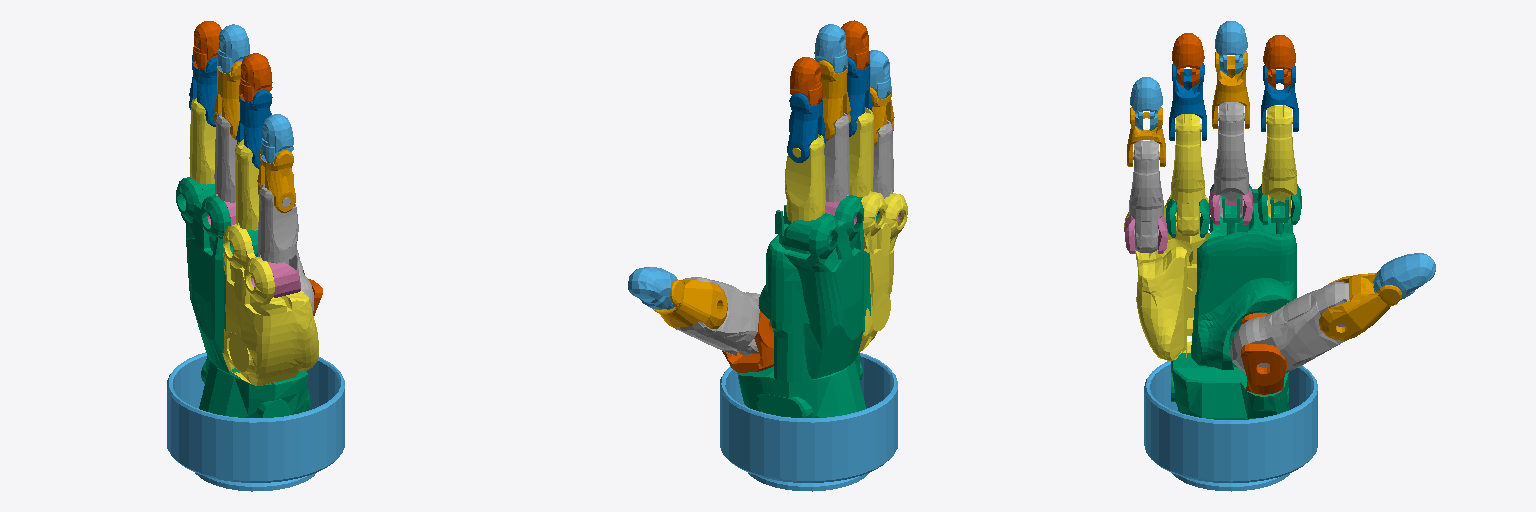
robot.urdf — svh:
<?xml version="1.0" encoding="utf-8"?>
<robot name="svh">
  <link name="base_link"/>
  <joint name="root_joint" type="fixed">
    <parent link="base_link"/>
    <child link="right_hand_base_link"/>
    <origin rpy="0 0 -1.57079" xyz="0 0 0"/>
  </joint>
  <link name="right_hand_base_link">
    <origin rpy="0 0 0" xyz="0 0 0"/>
    <visual>
      <origin rpy="0 0 0" xyz="0 0 -0.032"/>
      <geometry>
        <mesh filename="meshes/visual/base10.obj"/>
      </geometry>
    </visual>
    <collision>
      <origin rpy="0 0 0" xyz="0 0 -0.032"/>
      <geometry>
        <mesh filename="meshes/collision/base10.stl"/>
      </geometry>
    </collision>
  </link>
  <!-- LENGTH NOT FOUND IN DATASHEET! GUESSED!!! -->
  <link name="right_hand_e1">
    <visual>
      <origin rpy="0 0 0" xyz="0 0.01313 0"/>
      <geometry>
        <mesh filename="meshes/visual/h10.obj" scale="1 1 1"/>
      </geometry>
    </visual>
    <collision>
      <origin rpy="0 0 0" xyz="0 0.01313 0.013"/>
      <geometry>
        <box size="0.05 0.05 0.026"/>
      </geometry>
    </collision>
    <collision>
      <origin rpy="0 0 0" xyz="-0.00573 0.0035 0.05747"/>
      <geometry>
        <box size="0.0584 0.038 0.0641"/>
      </geometry>
    </collision>
  </link>
  <!-- LENGTH NOT FOUND IN DATASHEET! GUESSED!!! -->
  <link name="right_hand_e2">
    <visual>
      <origin xyz="-0.0007 0 -0.01002"/>
      <geometry>
        <mesh filename="meshes/visual/h11.obj" scale="1 1 1"/>
      </geometry>
    </visual>
    <collision>
      <origin rpy="0 0 0" xyz="0.016 0 0.02"/>
      <geometry>
        <box size="0.0279 0.035 0.0483"/>
      </geometry>
    </collision>
  </link>
  <link name="right_hand_e"/>
  <!-- THUMB LINKS -->
  <link name="right_hand_z">
    <visual>
      <origin xyz="0 0 0.02442"/>
      <geometry>
        <mesh filename="meshes/visual/d10.obj" scale="1 1 1"/>
      </geometry>
    </visual>
  </link>
  <link name="right_hand_virtual_a"/>
  <link name="right_hand_a">
    <visual>
      <geometry>
        <mesh filename="meshes/visual/d11.obj" scale="1 1 1"/>
      </geometry>
    </visual>
    <collision>
      <geometry>
        <mesh filename="meshes/collision/d11.stl" scale="1 1 1"/>
      </geometry>
    </collision>
  </link>
  <link name="right_hand_b">
    <visual>
      <geometry>
        <mesh filename="meshes/visual/d12.obj" scale="1 1 1"/>
      </geometry>
    </visual>
    <collision>
      <geometry>
        <mesh filename="meshes/collision/d12.stl" scale="1 1 1"/>
      </geometry>
    </collision>
  </link>
  <link name="right_hand_c">
    <inertial>
      <origin rpy="0 0 0" xyz="0.007 0.000 0.000"/>
      <mass value="0.02"/>
      <inertia ixx="1e-5" ixy="0.0" ixz="0.0" iyy="2e-5" iyz="0.0" izz="2e-5"/>
    </inertial>
    <visual>
      <geometry>
        <mesh filename="meshes/visual/d13.obj" scale="1 1 1"/>
      </geometry>
    </visual>
    <collision>
      <geometry>
        <mesh filename="meshes/collision/d13.stl" scale="1 1 1"/>
      </geometry>
    </collision>
  </link>
  <!-- INDEX FINGER LINKS -->
  <link name="right_hand_virtual_l">
    <visual>
      <origin xyz="0 0 0.01321"/>
      <geometry>
        <mesh filename="meshes/visual/f10.obj"/>
      </geometry>
    </visual>
    <collision>
      <origin xyz="-0.01 0 0"/>
      <geometry>
        <sphere radius="0.01"/>
      </geometry>
    </collision>
  </link>
  <link name="right_hand_l">
    <visual>
      <geometry>
        <mesh filename="meshes/visual/f11.obj"/>
      </geometry>
    </visual>
    <collision>
      <geometry>
        <mesh filename="meshes/collision/f11.stl" scale="1 1 1"/>
      </geometry>
    </collision>
  </link>
  <link name="right_hand_p">
    <inertial>
      <origin rpy="0 0 0" xyz="0.01 0.000 0.000"/>
      <mass value="0.024"/>
      <inertia ixx="9e-7" ixy="0.0" ixz="0.0" iyy="3e-6" iyz="0.0" izz="2e-6"/>
    </inertial>
    <visual>
      <geometry>
        <mesh filename="meshes/visual/f12.obj"/>
      </geometry>
    </visual>
    <collision>
      <geometry>
        <mesh filename="meshes/collision/f12.stl"/>
      </geometry>
    </collision>
  </link>
  <link name="right_hand_t">
    <inertial>
      <origin rpy="0 0 0" xyz="0.007 0.000 0.000"/>
      <mass value="0.02"/>
      <inertia ixx="1e-5" ixy="0.0" ixz="0.0" iyy="2e-5" iyz="0.0" izz="2e-5"/>
    </inertial>
    <visual>
      <geometry>
        <mesh filename="meshes/visual/f13.obj"/>
      </geometry>
    </visual>
    <collision>
      <geometry>
        <mesh filename="meshes/collision/f13.stl" scale="1 1 1"/>
      </geometry>
    </collision>
  </link>
  <!-- MIDDLE FINGER LINKS -->
  <link name="right_hand_virtual_k">
    <visual>
      <origin xyz="0 0 0.01321"/>
      <geometry>
        <mesh filename="meshes/visual/f20.obj"/>
      </geometry>
    </visual>
    <collision>
      <origin xyz="-0.01 0 0"/>
      <geometry>
        <sphere radius="0.01"/>
      </geometry>
    </collision>
  </link>
  <link name="right_hand_k">
    <visual>
      <geometry>
        <mesh filename="meshes/visual/f21.obj"/>
      </geometry>
    </visual>
    <collision>
      <geometry>
        <mesh filename="meshes/collision/f21.stl" scale="1 1 1"/>
      </geometry>
    </collision>
  </link>
  <link name="right_hand_o">
    <visual>
      <geometry>
        <mesh filename="meshes/visual/f22.obj"/>
      </geometry>
    </visual>
    <collision>
      <geometry>
        <mesh filename="meshes/collision/f22.stl" scale="1 1 1"/>
      </geometry>
    </collision>
  </link>
  <link name="right_hand_s">
    <inertial>
      <origin rpy="0 0 0" xyz="0.007 0.000 0.000"/>
      <mass value="0.02"/>
      <inertia ixx="1e-5" ixy="0.0" ixz="0.0" iyy="2e-5" iyz="0.0" izz="2e-5"/>
    </inertial>
    <visual>
      <geometry>
        <mesh filename="meshes/visual/f23.obj"/>
      </geometry>
    </visual>
    <collision>
      <geometry>
        <mesh filename="meshes/collision/f23.stl" scale="1 1 1"/>
      </geometry>
    </collision>
  </link>
  <!-- RING FINGER LINKS -->
  <link name="right_hand_virtual_j">
    <visual>
      <origin xyz="0 0 -0.01321"/>
      <geometry>
        <mesh filename="meshes/visual/f30.obj"/>
      </geometry>
    </visual>
    <collision>
      <origin xyz="0 0 0"/>
      <geometry>
        <sphere radius="0.01"/>
      </geometry>
    </collision>
  </link>
  <link name="right_hand_j">
    <visual>
      <geometry>
        <mesh filename="meshes/visual/f31.obj"/>
      </geometry>
    </visual>
    <collision>
      <geometry>
        <mesh filename="meshes/collision/f31.stl" scale="1 1 1"/>
      </geometry>
    </collision>
  </link>
  <link name="right_hand_n">
    <visual>
      <geometry>
        <mesh filename="meshes/visual/f32.obj"/>
      </geometry>
    </visual>
    <collision>
      <geometry>
        <mesh filename="meshes/collision/f32.stl" scale="1 1 1"/>
      </geometry>
    </collision>
  </link>
  <link name="right_hand_r">
    <inertial>
      <origin rpy="0 0 0" xyz="0.007 0.000 0.000"/>
      <mass value="0.02"/>
      <inertia ixx="1e-5" ixy="0.0" ixz="0.0" iyy="2e-5" iyz="0.0" izz="2e-5"/>
    </inertial>
    <visual>
      <geometry>
        <mesh filename="meshes/visual/f33.obj"/>
      </geometry>
    </visual>
    <collision>
      <geometry>
        <mesh filename="meshes/collision/f33.stl" scale="1 1 1"/>
      </geometry>
    </collision>
  </link>
  <!-- LITTLE FINGER LINKS -->
  <link name="right_hand_virtual_i">
    <visual>
      <origin xyz="0 0 -0.01321"/>
      <geometry>
        <mesh filename="meshes/visual/f40.obj"/>
      </geometry>
    </visual>
    <collision>
      <origin xyz="0 0 0"/>
      <geometry>
        <sphere radius="0.01"/>
      </geometry>
    </collision>
  </link>
  <link name="right_hand_i">
    <visual>
      <geometry>
        <mesh filename="meshes/visual/f41.obj"/>
      </geometry>
    </visual>
    <collision>
      <geometry>
        <mesh filename="meshes/collision/f41.stl"/>
      </geometry>
    </collision>
  </link>
  <link name="right_hand_m">
    <inertial>
      <origin rpy="0 0 0" xyz="0.007 0.000 0.000"/>
      <mass value="0.02"/>
      <inertia ixx="8e-7" ixy="0.0" ixz="0.0" iyy="2e-6" iyz="0.0" izz="2e-6"/>
    </inertial>
    <visual>
      <geometry>
        <mesh filename="meshes/visual/f42.obj"/>
      </geometry>
    </visual>
    <collision>
      <geometry>
        <mesh filename="meshes/collision/f42.stl"/>
      </geometry>
    </collision>
  </link>
  <link name="right_hand_q">
    <inertial>
      <origin rpy="0 0 0" xyz="0.007 0.000 0.000"/>
      <mass value="0.02"/>
      <inertia ixx="1e-5" ixy="0.0" ixz="0.0" iyy="2e-5" iyz="0.0" izz="2e-5"/>
    </inertial>
    <visual>
      <geometry>
        <mesh filename="meshes/visual/f43.obj"/>
      </geometry>
    </visual>
    <collision>
      <geometry>
        <mesh filename="meshes/collision/f43.stl"/>
      </geometry>
    </collision>
  </link>
  <joint name="right_hand_Thumb_Flexion" type="revolute">
    <parent link="right_hand_virtual_a"/>
    <child link="right_hand_a"/>
    <limit effort="1000.0" lower="0.0" upper="0.9704" velocity="1"/>
    <origin rpy="0 0 -0.9704" xyz="0 0 0"/>
    <axis xyz="0 0 1"/>
  </joint>
  <joint name="right_hand_Thumb_Helper" type="fixed">
    <parent link="right_hand_z"/>
    <child link="right_hand_virtual_a"/>
    <origin rpy="0 -1.5707 3.1416" xyz="0 0 0.04596"/>
  </joint>
  <!-- BASE_LINE JOINTS -->
  <joint name="right_hand_Thumb_Opposition" type="revolute">
    <parent link="right_hand_e1"/>
    <child link="right_hand_z"/>
    <limit effort="1000.0" lower="0.0" upper="0.9879" velocity="1"/>
    <origin rpy="0 0.2618 1.571" xyz="-0.0169 0.02626 0"/>
    <axis xyz="0 0 -1"/>
  </joint>
  <joint name="right_hand_f4" type="fixed">
    <parent link="right_hand_base_link"/>
    <child link="right_hand_e1"/>
    <origin rpy="0 0 0" xyz="0 -0.01313 0"/>
  </joint>
  <joint name="right_hand_j5" type="revolute">
    <parent link="right_hand_e1"/>
    <child link="right_hand_e2"/>
    <limit effort="1000.0" lower="0.0" upper="0.98786" velocity="1"/>
    <origin rpy="0 0 0" xyz="0.0184 0.006 0.0375"/>
    <axis xyz="0 0 1"/>
    <mimic joint="right_hand_Thumb_Opposition" multiplier="1" offset="0"/>
  </joint>
  <joint name="right_hand_f5" type="fixed">
    <parent link="right_hand_e2"/>
    <child link="right_hand_e"/>
    <origin rpy="0 0 0" xyz="0 -0.0060 0"/>
  </joint>
  <!-- THUMB JOINTS -->
  <joint name="right_hand_j3" type="revolute">
    <parent link="right_hand_a"/>
    <child link="right_hand_b"/>
    <limit effort="1000.0" lower="0.0" upper="0.98506" velocity="1"/>
    <origin rpy="0 0 0" xyz="0.0485 0 0"/>
    <axis xyz="0 0 1"/>
    <mimic joint="right_hand_Thumb_Flexion" multiplier="1.01511" offset="0"/>
  </joint>
  <joint name="right_hand_j4" type="revolute">
    <parent link="right_hand_b"/>
    <child link="right_hand_c"/>
    <limit effort="1000.0" lower="0.0" upper="1.406" velocity="1"/>
    <origin rpy="0 0 0" xyz="0.030 0 0"/>
    <axis xyz="0 0 1"/>
    <mimic joint="right_hand_Thumb_Flexion" multiplier="1.44889" offset="0"/>
  </joint>
  <!-- INDEX FINGER JOINTS -->
  <joint name="right_hand_Index_Finger_Distal" type="revolute">
    <parent link="right_hand_l"/>
    <child link="right_hand_p"/>
    <limit effort="1000.0" lower="0" upper="1.334" velocity="1"/>
    <origin rpy="0 0 0" xyz="0.04804 0 0"/>
    <axis xyz="0 0 1"/>
  </joint>
  <joint name="right_hand_Index_Finger_Proximal" type="revolute">
    <parent link="right_hand_virtual_l"/>
    <child link="right_hand_l"/>
    <limit effort="1000.0" lower="0.0" upper="0.79849" velocity="1"/>
    <origin rpy="-1.5707 0 0" xyz="0 0 0"/>
    <axis xyz="0 0 1"/>
  </joint>
  <!-- JOINT Finger_Spread in BASE_LINE section for better UX -->
  <joint name="right_hand_j14" type="revolute">
    <parent link="right_hand_p"/>
    <child link="right_hand_t"/>
    <limit effort="1000.0" lower="0" upper="1.394" velocity="1"/>
    <origin rpy="0 0 0" xyz="0.026 0 0"/>
    <axis xyz="0 0 1"/>
    <mimic joint="right_hand_Index_Finger_Distal" multiplier="1.0450" offset="0"/>
  </joint>
  <!-- MIDDLE FINGER JOINTS -->
  <joint name="right_hand_Middle_Finger_Proximal" type="revolute">
    <parent link="right_hand_virtual_k"/>
    <child link="right_hand_k"/>
    <limit effort="1000.0" lower="0.0" upper="0.79849" velocity="1"/>
    <origin rpy="-1.5707 0 0" xyz="0 0 0"/>
    <axis xyz="0 0 1"/>
  </joint>
  <joint name="right_hand_Middle_Finger_Distal" type="revolute">
    <parent link="right_hand_k"/>
    <child link="right_hand_o"/>
    <limit effort="1000.0" lower="0" upper="1.334" velocity="1"/>
    <origin rpy="0 0 0" xyz="0.05004 0 0"/>
    <axis xyz="0 0 1"/>
  </joint>
  <joint name="right_hand_j15" type="revolute">
    <parent link="right_hand_o"/>
    <child link="right_hand_s"/>
    <limit effort="1000.0" lower="0" upper="1.334" velocity="1"/>
    <origin rpy="0 0 0" xyz="0.032 0 0"/>
    <axis xyz="0 0 1"/>
    <mimic joint="right_hand_Middle_Finger_Distal" multiplier="1.0454" offset="0"/>
  </joint>
  <!-- RING FINGER JOINTS -->
  <joint name="right_hand_Ring_Finger" type="revolute">
    <parent link="right_hand_virtual_j"/>
    <child link="right_hand_j"/>
    <limit effort="1000.0" lower="0.0" upper="0.98175" velocity="1"/>
    <origin rpy="1.5707 0 0" xyz="0 0 0"/>
    <axis xyz="0 0 1"/>
  </joint>
  <joint name="right_hand_j12" type="revolute">
    <parent link="right_hand_j"/>
    <child link="right_hand_n"/>
    <limit effort="1000.0" lower="0" upper="1.334" velocity="1"/>
    <origin rpy="0 0 0" xyz="0.05004 0 0"/>
    <axis xyz="0 0 1"/>
    <mimic joint="right_hand_Ring_Finger" multiplier="1.3588" offset="0"/>
  </joint>
  <joint name="right_hand_j16" type="revolute">
    <parent link="right_hand_n"/>
    <child link="right_hand_r"/>
    <limit effort="1000.0" lower="0" upper="1.395" velocity="1"/>
    <origin rpy="0 0 0" xyz="0.032 0 0"/>
    <axis xyz="0 0 1"/>
    <mimic joint="right_hand_Ring_Finger" multiplier="1.42093" offset="0"/>
  </joint>
  <!-- PINKY JOINTS -->
  <joint name="right_hand_Pinky" type="revolute">
    <parent link="right_hand_virtual_i"/>
    <child link="right_hand_i"/>
    <limit effort="1000.0" lower="0.0" upper="0.98175" velocity="1"/>
    <origin rpy="1.5707 0 0" xyz="0 0 0"/>
    <axis xyz="0 0 1"/>
  </joint>
  <joint name="right_hand_j13" type="revolute">
    <parent link="right_hand_i"/>
    <child link="right_hand_m"/>
    <limit effort="1000.0" lower="0" upper="1.334" velocity="1"/>
    <origin rpy="0 0 0" xyz="0.04454 0 0"/>
    <axis xyz="0 0 1"/>
    <mimic joint="right_hand_Pinky" multiplier="1.35880" offset="0"/>
  </joint>
  <joint name="right_hand_j17" type="revolute">
    <parent link="right_hand_m"/>
    <child link="right_hand_q"/>
    <limit effort="1000.0" lower="0" upper="1.3971" velocity="1"/>
    <origin rpy="0 0 0" xyz="0.022 0 0"/>
    <axis xyz="0 0 1"/>
    <mimic joint="right_hand_Pinky" multiplier="1.42307" offset="0"/>
  </joint>
  <joint name="right_hand_index_spread" type="revolute">
    <parent link="right_hand_e1"/>
    <child link="right_hand_virtual_l"/>
    <limit effort="1000.0" lower="0.0" upper="0.28833" velocity="1"/>
    <origin rpy="0 -1.5707 1.5707" xyz="-0.025 0 0.110"/>
    <axis xyz="0 0 1"/>
    <mimic joint="right_hand_Finger_Spread" multiplier="0.5" offset="0"/>
  </joint>
  <joint name="right_hand_middle_spread_dummy" type="fixed">
    <parent link="right_hand_e1"/>
    <child link="right_hand_virtual_k"/>
    <origin rpy="0 -1.5707 1.5707" xyz="0 0 0.110"/>
  </joint>
  <joint name="right_hand_ring_spread" type="revolute">
    <parent link="right_hand_e"/>
    <child link="right_hand_virtual_j"/>
    <limit effort="1000.0" lower="0.0" upper="0.28833" velocity="1"/>
    <origin rpy="-1.5707 -1.5707 0" xyz="0.003855 0 0.0655"/>
    <axis xyz="0 0 1"/>
    <mimic joint="right_hand_Finger_Spread" multiplier="0.5" offset="0"/>
  </joint>
  <joint name="right_hand_Finger_Spread" type="revolute">
    <parent link="right_hand_e"/>
    <child link="right_hand_virtual_i"/>
    <limit effort="1000.0" lower="0.0" upper="0.5829" velocity="1"/>
    <origin rpy="-1.5707 -1.5707 0" xyz="0.025355 0 0.056"/>
    <axis xyz="0 0 1"/>
  </joint>

  <link name="thtip"/>
  <link name="fftip"/>
  <link name="mftip"/>
  <link name="rftip"/>
  <link name="lftip"/>
  <joint name="thtip_joint" type="fixed">
    <parent link="right_hand_c"/>
    <child link="thtip"/>
    <origin rpy="0.00000 -0.00000 0.00000" xyz="0.0275 0.000 0.000"/>
  </joint>
  <joint name="fftip_joint" type="fixed">
    <parent link="right_hand_t"/>
    <child link="fftip"/>
    <origin rpy="0.00000 -0.00000 0.00000" xyz="0.014 0.000 0.000"/>
  </joint>
  <joint name="mftip_joint" type="fixed">
    <parent link="right_hand_s"/>
    <child link="mftip"/>
    <origin rpy="0.00000 -0.00000 0.00000" xyz="0.014 0.000 0.000"/>
  </joint>
  <joint name="rftip_joint" type="fixed">
    <parent link="right_hand_r"/>
    <child link="rftip"/>
    <origin rpy="0.00000 -0.00000 0.00000" xyz="0.014 0.000 0.000"/>
  </joint>
  <joint name="lftip_joint" type="fixed">
    <parent link="right_hand_q"/>
    <child link="lftip"/>
    <origin rpy="0.00000 -0.00000 0.00000" xyz="0.014 0.000 0.000"/>
  </joint>
</robot>

--- Facts derived from the render (not from the file) ---
Views: 3 orthographic renders of the robot side by side, from view 1: azimuth 30°, elevation 25°; view 2: azimuth 150°, elevation 25°; view 3: azimuth 270°, elevation 25°.
Robot: svh — 31 links, 30 joints (20 revolute, 10 fixed); root link base_link; default pose: every joint at zero.
Visible links, largest first — view 1: right_hand_base_link, right_hand_e1, right_hand_e2, right_hand_i, right_hand_j, right_hand_l, right_hand_k, right_hand_n, right_hand_m, right_hand_o, right_hand_r, right_hand_q (+4 smaller); view 2: right_hand_e1, right_hand_base_link, right_hand_e2, right_hand_a, right_hand_l, right_hand_b, right_hand_k, right_hand_j, right_hand_p, right_hand_c, right_hand_o, right_hand_z (+8 smaller); view 3: right_hand_e1, right_hand_base_link, right_hand_e2, right_hand_a, right_hand_j, right_hand_b, right_hand_i, right_hand_k, right_hand_l, right_hand_z, right_hand_c, right_hand_o (+11 smaller).
Link boxes in pixels (x1,y1,x2,y2): right_hand_base_link: [167, 352, 344, 491]; right_hand_e1: [176, 177, 310, 417]; right_hand_e2: [222, 224, 318, 385]; right_hand_i: [258, 184, 298, 272]; right_hand_j: [235, 139, 258, 230]; right_hand_l: [189, 98, 215, 184]; right_hand_k: [214, 112, 236, 202]; right_hand_n: [236, 89, 272, 168]; right_hand_m: [257, 149, 295, 212]; right_hand_o: [214, 61, 241, 139]; right_hand_r: [239, 53, 272, 102]; right_hand_q: [261, 114, 293, 162]; right_hand_e1: [737, 195, 870, 417]; right_hand_base_link: [720, 353, 897, 491]; right_hand_e2: [858, 192, 907, 352]; right_hand_a: [675, 277, 760, 355]; right_hand_l: [785, 134, 825, 222]; right_hand_b: [653, 280, 727, 329]; right_hand_k: [824, 112, 849, 202]; right_hand_j: [849, 107, 873, 196]; right_hand_p: [787, 93, 825, 162]; right_hand_c: [628, 267, 677, 309]; right_hand_o: [818, 60, 850, 140]; right_hand_z: [722, 305, 773, 372]; right_hand_e1: [1171, 184, 1300, 419]; right_hand_base_link: [1144, 361, 1317, 491]; right_hand_e2: [1124, 195, 1209, 360]; right_hand_a: [1230, 282, 1349, 372]; right_hand_j: [1171, 114, 1205, 235]; right_hand_b: [1319, 270, 1401, 340]; right_hand_i: [1129, 140, 1163, 252]; right_hand_k: [1214, 102, 1248, 217]; right_hand_l: [1262, 105, 1296, 223]; right_hand_z: [1241, 313, 1286, 394]; right_hand_c: [1373, 253, 1435, 299]; right_hand_o: [1212, 51, 1249, 128].
Bounding box of the posed robot: 0.0935 × 0.1609 × 0.2465 m (x, y, z).
23 mesh visuals loaded from 23 distinct referenced files (23 OBJ).